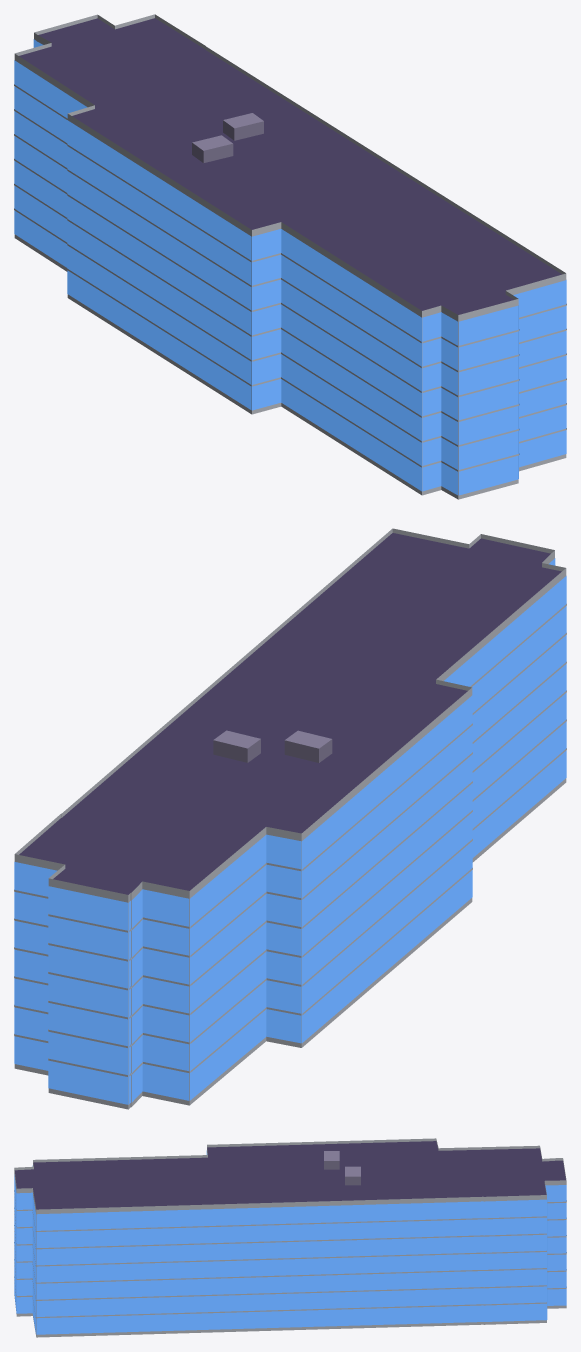
The model's file is b-135-thompson-engineering-building.glb.
The picture shows the model from 3 angles, top to bottom: view 1: azimuth 30°, elevation 25°; view 2: azimuth 150°, elevation 25°; view 3: azimuth 270°, elevation 25°; orthographic projection. The views are drawn at different scales.
Visible parts, largest first — view 1: campus/b-135-thompson-engineering-building-0; view 2: campus/b-135-thompson-engineering-building-0; view 3: campus/b-135-thompson-engineering-building-0.
Part boxes in pixels (x1,y1,x2,y2): campus/b-135-thompson-engineering-building-0: (14,14,566,499); campus/b-135-thompson-engineering-building-0: (14,528,566,1109); campus/b-135-thompson-engineering-building-0: (14,1138,566,1337).
Bounding box in the file's own units: 32.06 × 28 × 105.
